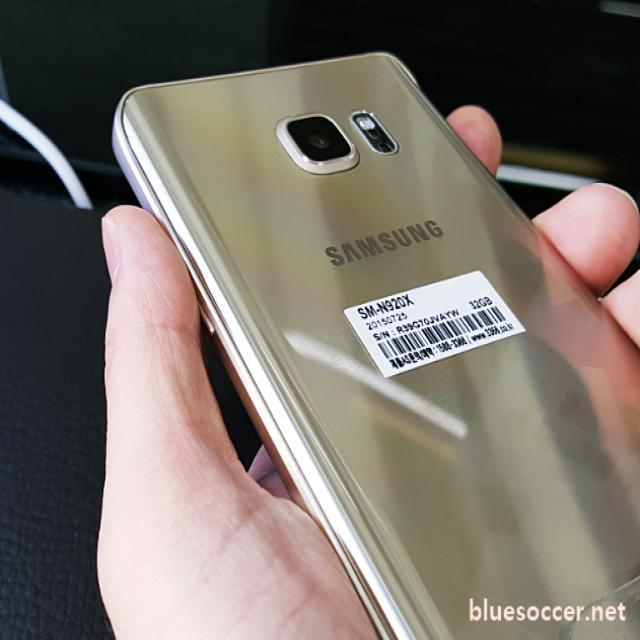phone: (114, 51, 640, 640)
